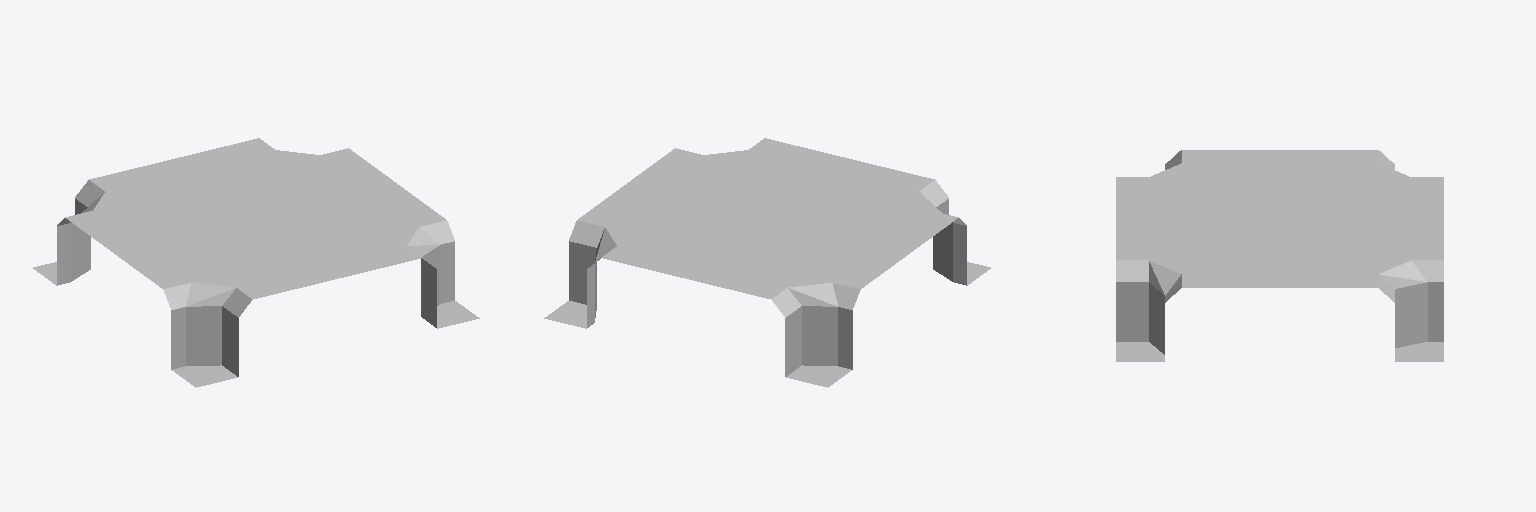
File: cliff_Y.001.obj
3 renders of one model, left to right at view 1: azimuth 30°, elevation 25°; view 2: azimuth 150°, elevation 25°; view 3: azimuth 270°, elevation 25°, orthographic.
Visible parts, largest first — view 1: cliff_Y.001_Cube.059; view 2: cliff_Y.001_Cube.059; view 3: cliff_Y.001_Cube.059.
Boxes of the visible parts, <box> form: cliff_Y.001_Cube.059: <box>33,138,479,387</box>; cliff_Y.001_Cube.059: <box>544,138,990,387</box>; cliff_Y.001_Cube.059: <box>1116,150,1443,361</box>.
Size of the model in its own units: 2 by 0.5 by 2.